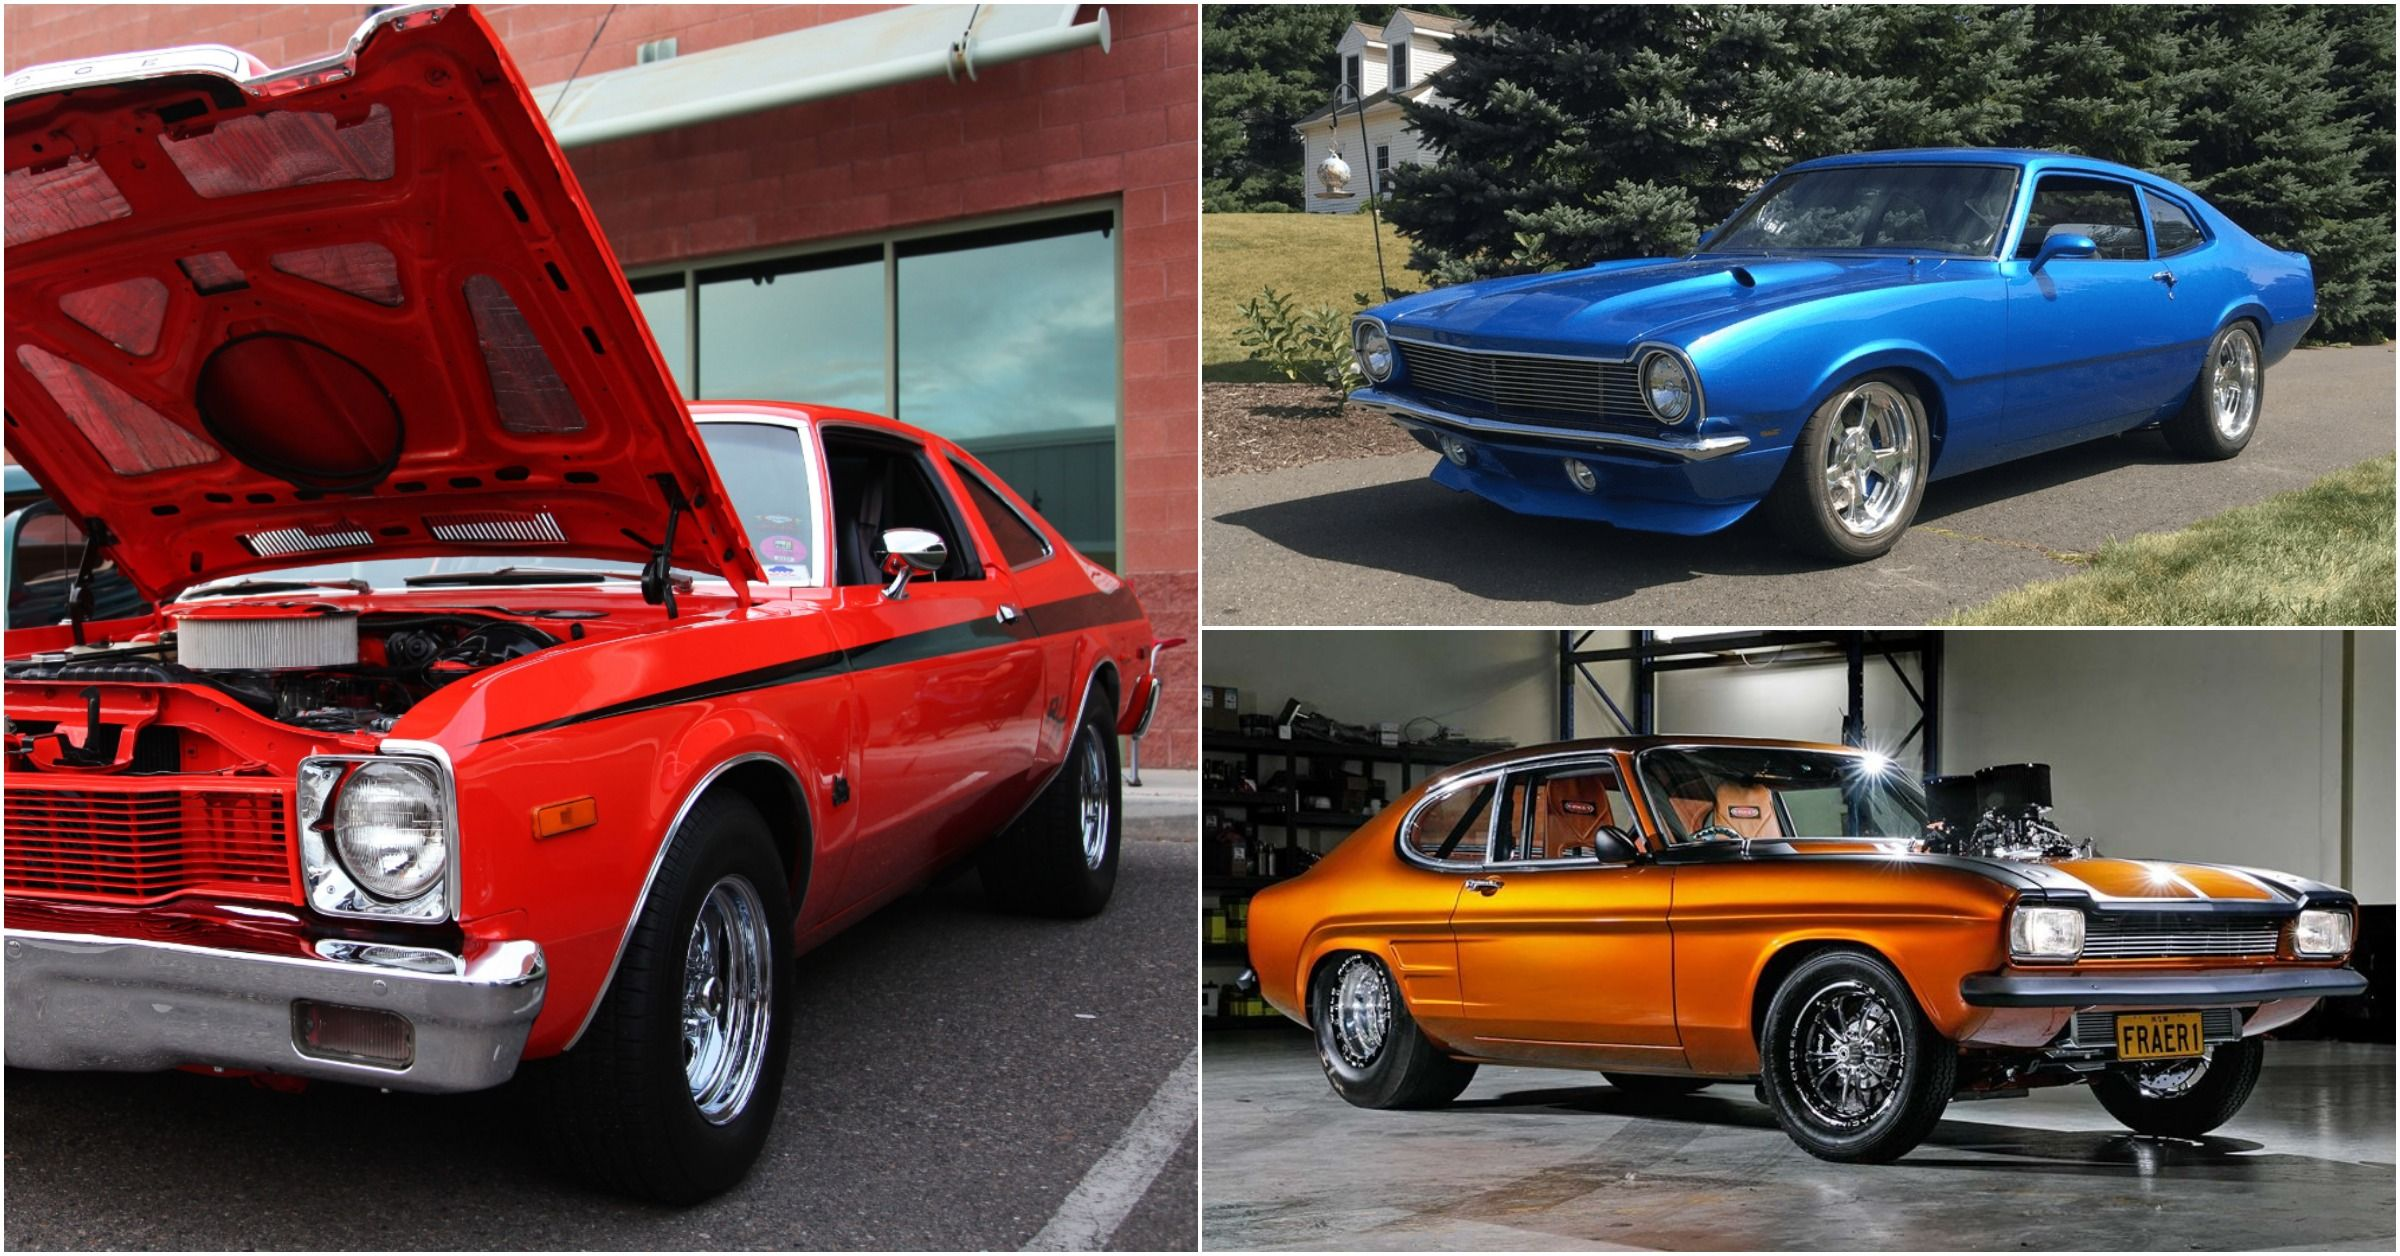headlight: (297, 745, 467, 923)
wheel: (517, 789, 821, 1216), (983, 668, 1133, 918)
